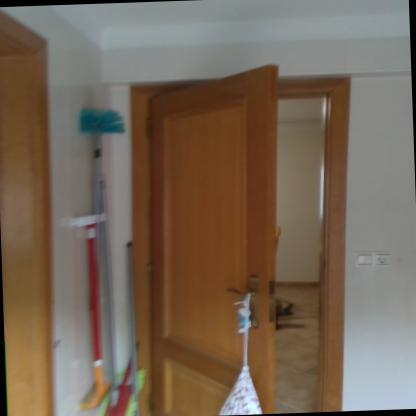semi: (109, 53, 379, 415)
